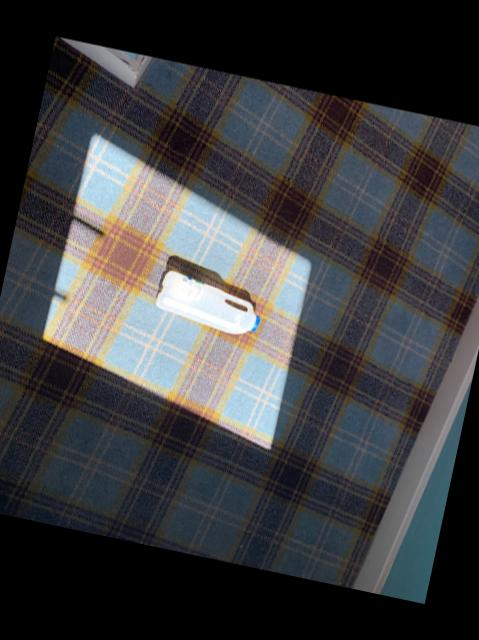plastic: (153, 269, 256, 331)
